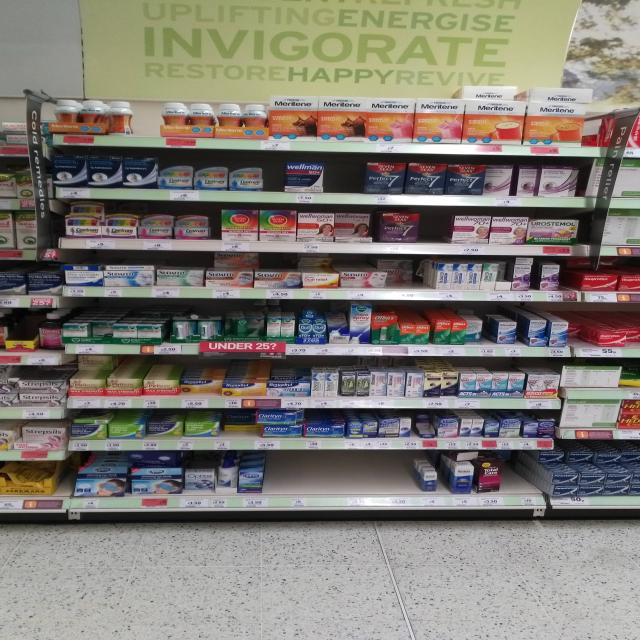unorganised: (468, 319, 532, 345), (109, 100, 136, 138), (383, 262, 420, 287), (221, 412, 259, 435), (40, 317, 63, 353), (213, 252, 260, 269), (74, 354, 113, 373), (224, 319, 264, 337), (216, 461, 239, 488), (567, 326, 597, 346), (298, 255, 332, 269), (90, 319, 112, 337), (498, 261, 513, 284)
